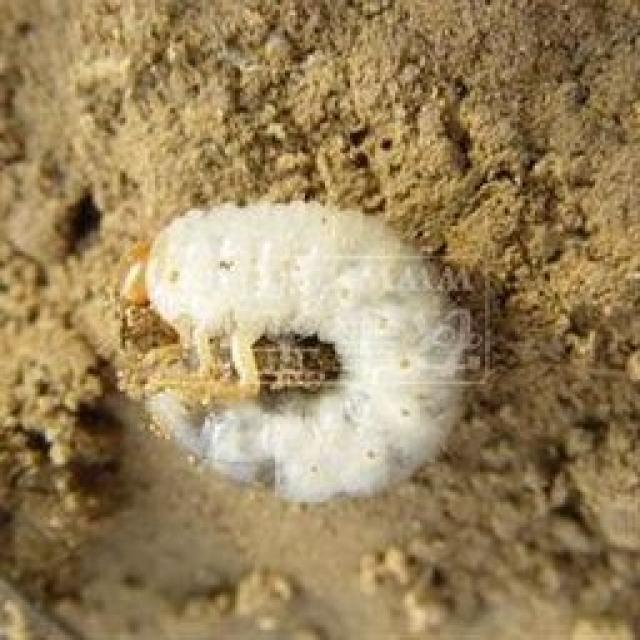grub: (120, 197, 477, 503)
